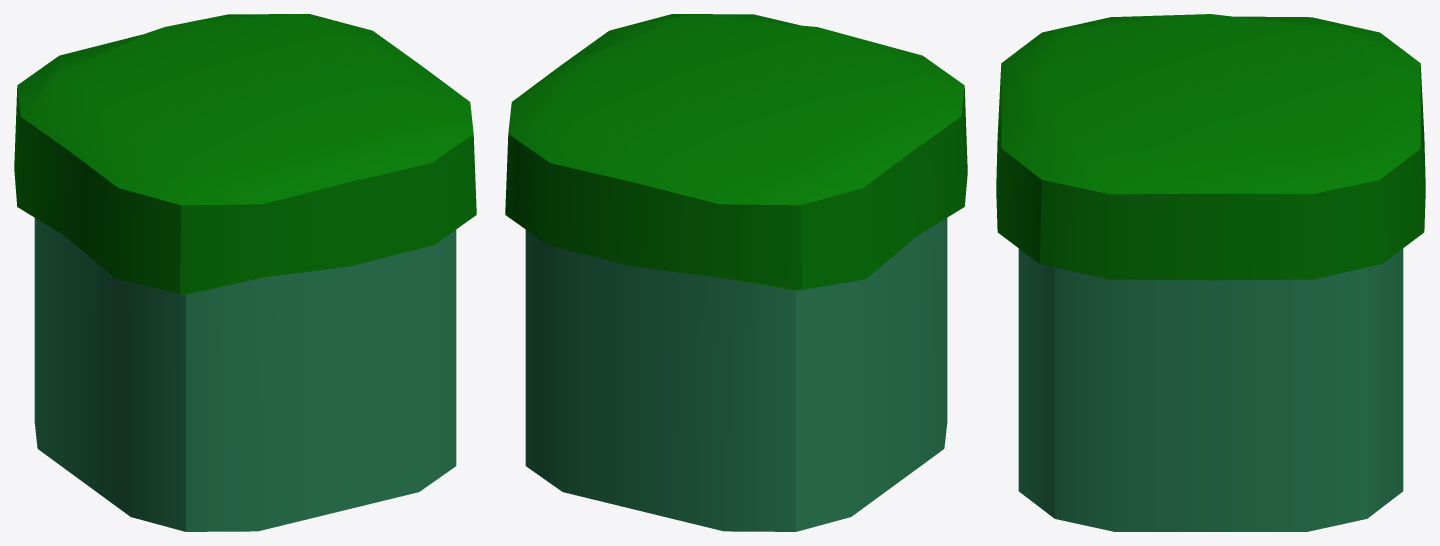
File: LevelWallPiece1.fbx
3 views of the same model, side by side, from view 1: azimuth 30°, elevation 25°; view 2: azimuth 150°, elevation 25°; view 3: azimuth 270°, elevation 25° (orthographic). The views are drawn at different scales.
Visible parts, largest first — view 1: LevelWallPiece1; view 2: LevelWallPiece1; view 3: LevelWallPiece1.
Part boxes in pixels (x1,y1,x2,y2): LevelWallPiece1: (14, 14, 476, 531); LevelWallPiece1: (505, 14, 967, 531); LevelWallPiece1: (996, 14, 1425, 531).
Bounding box in the file's own units: 1.12 × 1.06 × 1.12.
